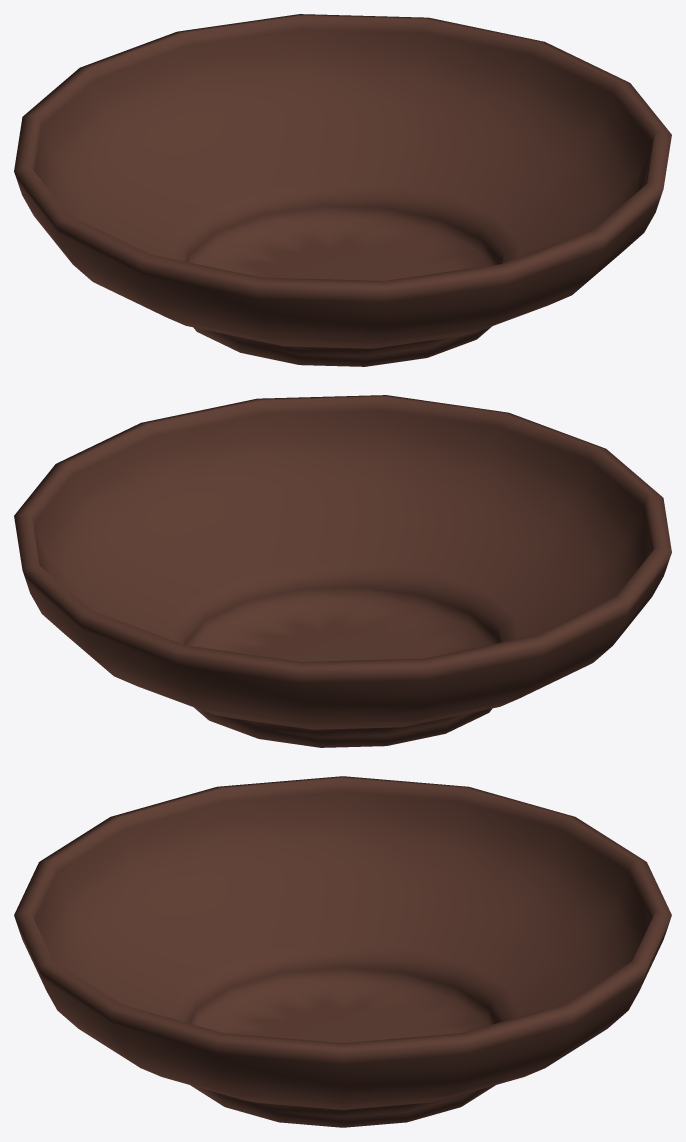
File: bowl.fbx
3 renders of one model, top to bottom at view 1: azimuth 30°, elevation 25°; view 2: azimuth 150°, elevation 25°; view 3: azimuth 270°, elevation 25°, orthographic.
Parts seen in each view (by area): view 1: Vert; view 2: Vert; view 3: Vert.
Part boxes in pixels (<box>): Vert: <box>14,14,671,366</box>; Vert: <box>14,395,671,747</box>; Vert: <box>14,776,671,1127</box>.
Size of the model in its own units: 197 by 48.28 by 197.
